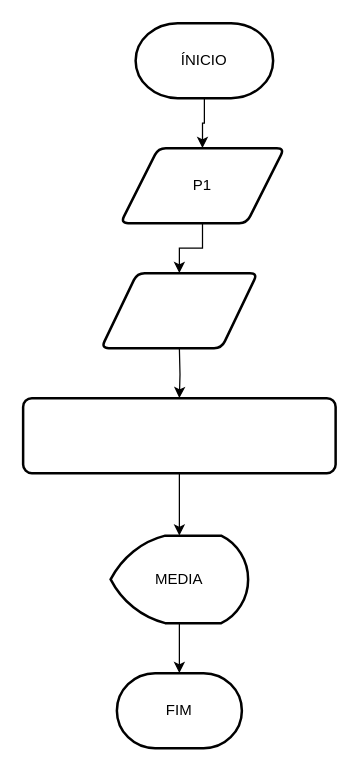
The diagram is 358 pixels wide and 770 high, and some of its shapes have lost their labels. The centre of each missing label's shape, as x and y in pixels:
"MEDIA = (P1+P2)/2" goes at (178,435).
"P2" goes at (178,310).
